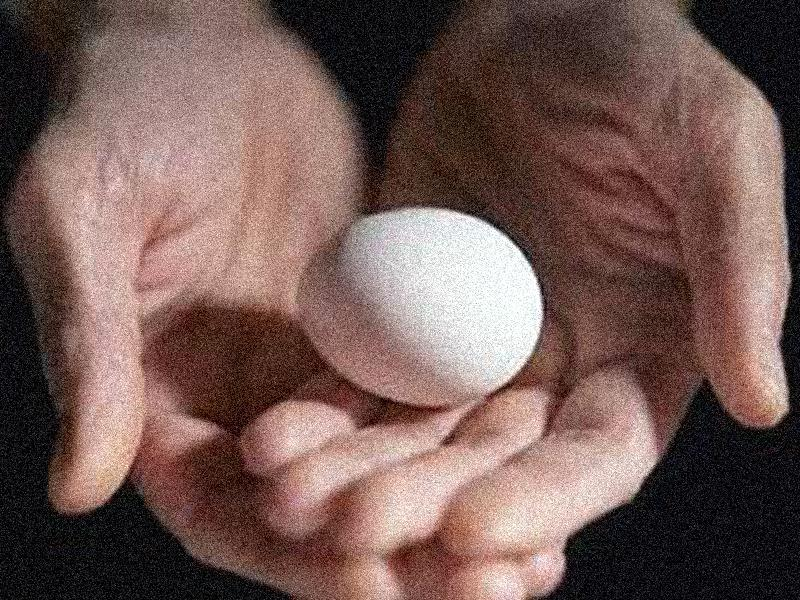Eggs: (299, 205, 543, 404)
